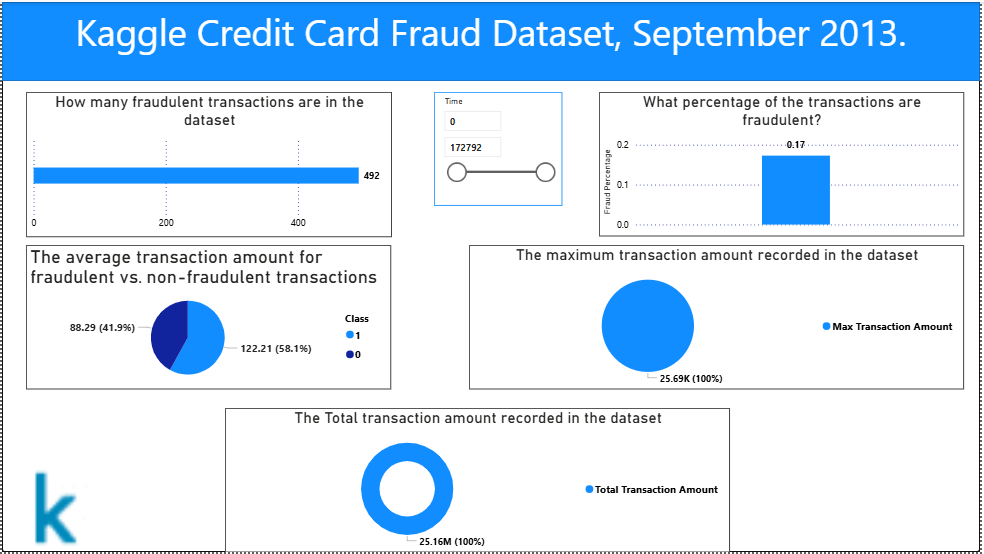

This screenshot's page, from the dashboard's own definition file:
{"tool":"powerbi","page":{"name":"Page 1","canvas":[1280,720],"ordinal":0},"visuals":[{"type":"shape","box":[0,0,1280,103.3],"z":1000},{"type":"textbox","box":[0,0,1280,90.1],"z":2000},{"type":"image","box":[0,604.8,140.9,114.7],"z":3000},{"type":"slicer","fields":{"Values":["Kaggle Creditcard Frd.Time"]},"box":[565.5,117.8,167.6,149.2],"z":6000},{"type":"barChart","title":"How many fraudulent transactions are in the dataset","fields":{"Y":["Kaggle Creditcard Frd.Fraud Count"]},"box":[31.7,118.4,479,189.9],"z":8001},{"type":"columnChart","title":"What percentage of the transactions are fraudulent?","fields":{"Y":["Kaggle Creditcard Frd.Fraud Percentage"]},"box":[781.8,118.4,477.6,188.6],"z":8002},{"type":"pieChart","title":"The average transaction amount for fraudulent vs. non-fraudulent transactions","fields":{"Y":["Kaggle Creditcard Frd.Avg Transaction Amount"],"Category":["Kaggle Creditcard Frd.Class"]},"box":[31.7,317.9,477.6,188.6],"z":8003},{"type":"pieChart","title":"The maximum transaction amount recorded in the dataset","fields":{"Y":["Kaggle Creditcard Frd.Max Transaction Amount"]},"box":[611.1,317.9,648.3,188.6],"z":8004},{"type":"donutChart","title":"The Total transaction amount recorded in the dataset","fields":{"Y":["Kaggle Creditcard Frd.Total Transaction Amount"]},"box":[291.9,531.5,661.1,188.5],"z":8005}]}

Visuals, with their boxes in screenshot pixels (x1, y1, x2, y2), scaled from the page's 1280x720 canvas onto the 984x554 screenshot:
shape: [x1=0, y1=0, x2=983, y2=79]
textbox: [x1=0, y1=0, x2=983, y2=69]
image: [x1=0, y1=465, x2=108, y2=553]
slicer - Kaggle Creditcard Frd.Time: [x1=435, y1=91, x2=564, y2=205]
"How many fraudulent transactions are in the dataset" barChart: [x1=24, y1=91, x2=393, y2=237]
"What percentage of the transactions are fraudulent?" columnChart: [x1=601, y1=91, x2=968, y2=236]
"The average transaction amount for fraudulent vs. non-fraudulent transactions" pieChart: [x1=24, y1=245, x2=392, y2=390]
"The maximum transaction amount recorded in the dataset" pieChart: [x1=470, y1=245, x2=968, y2=390]
"The Total transaction amount recorded in the dataset" donutChart: [x1=224, y1=409, x2=733, y2=553]
